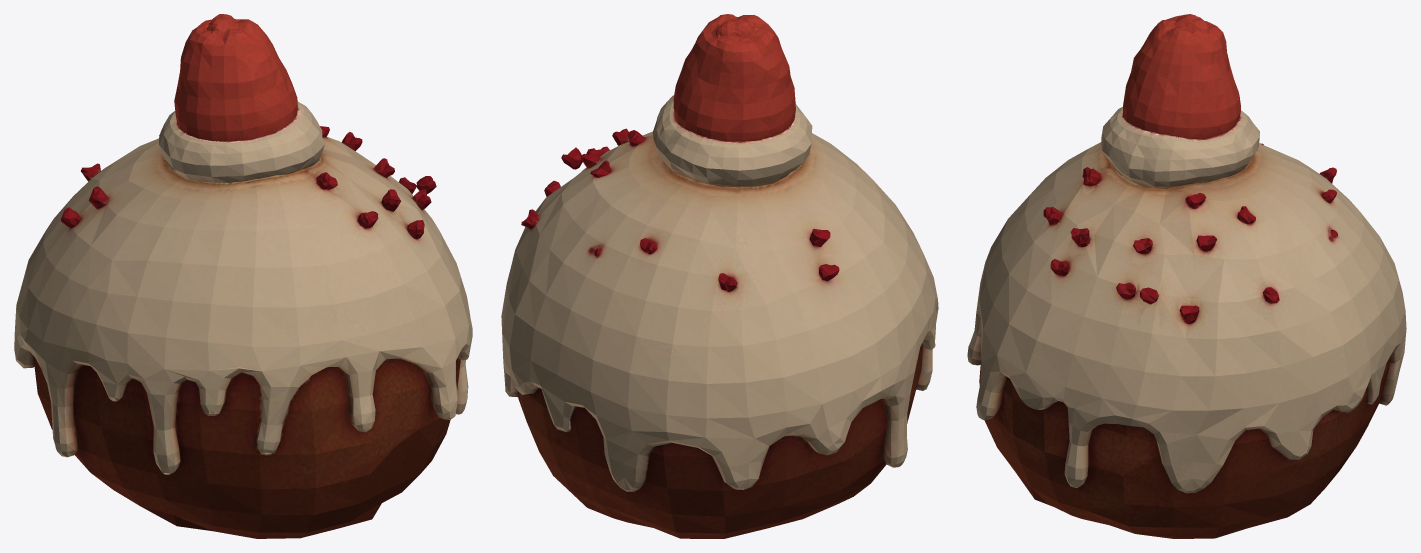
The model's file is food_1.glb.
3 renders of one model, left to right at view 1: azimuth 30°, elevation 25°; view 2: azimuth 150°, elevation 25°; view 3: azimuth 270°, elevation 25°, orthographic. The views are drawn at different scales.
Parts seen in each view (by area): view 1: tripo_node_481f1219-8606-4419-8fe6-5782e5705181; view 2: tripo_node_481f1219-8606-4419-8fe6-5782e5705181; view 3: tripo_node_481f1219-8606-4419-8fe6-5782e5705181.
Boxes of the visible parts, box(x1,y1,x2,y2) form: tripo_node_481f1219-8606-4419-8fe6-5782e5705181: box(14, 14, 472, 538); tripo_node_481f1219-8606-4419-8fe6-5782e5705181: box(501, 14, 938, 538); tripo_node_481f1219-8606-4419-8fe6-5782e5705181: box(967, 14, 1406, 538).
Size of the model in its own units: 0.8574 by 0.998 by 0.8652.
Materials: 1 (1 with a texture image).
